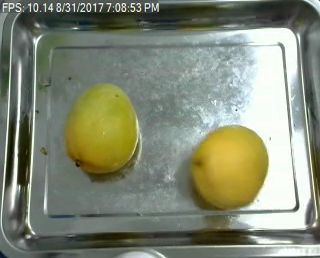Mango: (61, 84, 138, 174), (188, 124, 269, 208)
